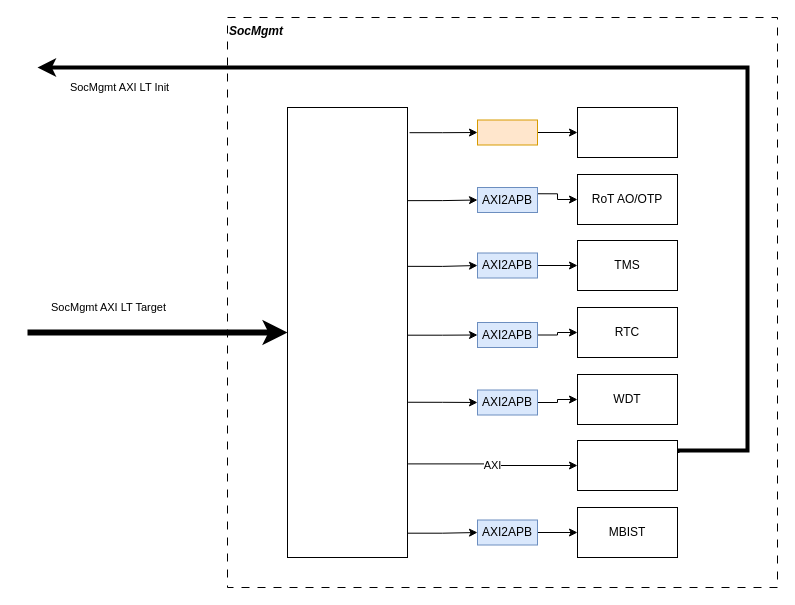
Some shapes in this 795 by 605 pixel diagram are drawn without their labels. Each missing label, with the box of its shape:
AXI Fabric: (286, 106, 408, 558)
AXI2AHB: (476, 119, 538, 145)
Debugger: (576, 440, 678, 490)
RoT KSE: (576, 106, 678, 158)
